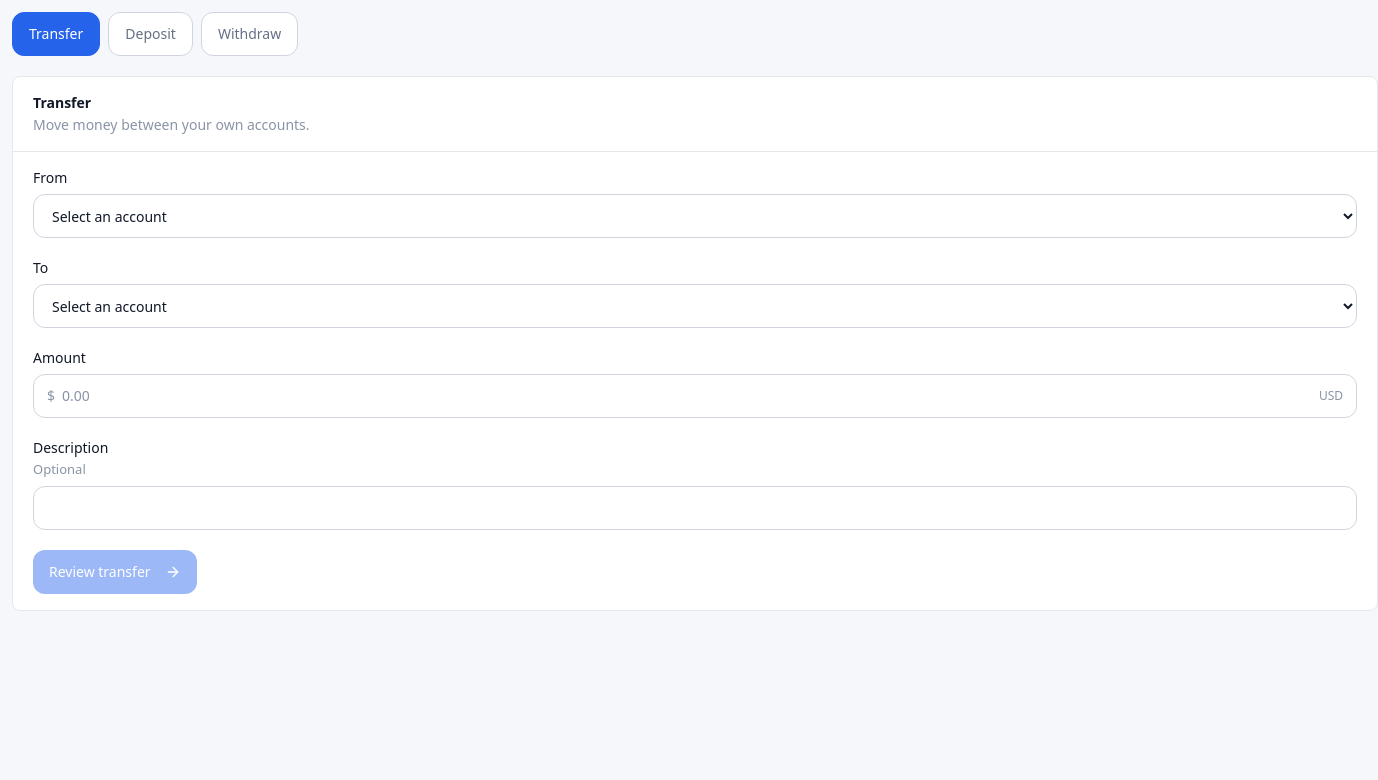
Test: the review step › shows the available balance before a withdrawal is confirmed
Click the tab "Withdraw" at (250, 34), box [201,12,298,56]
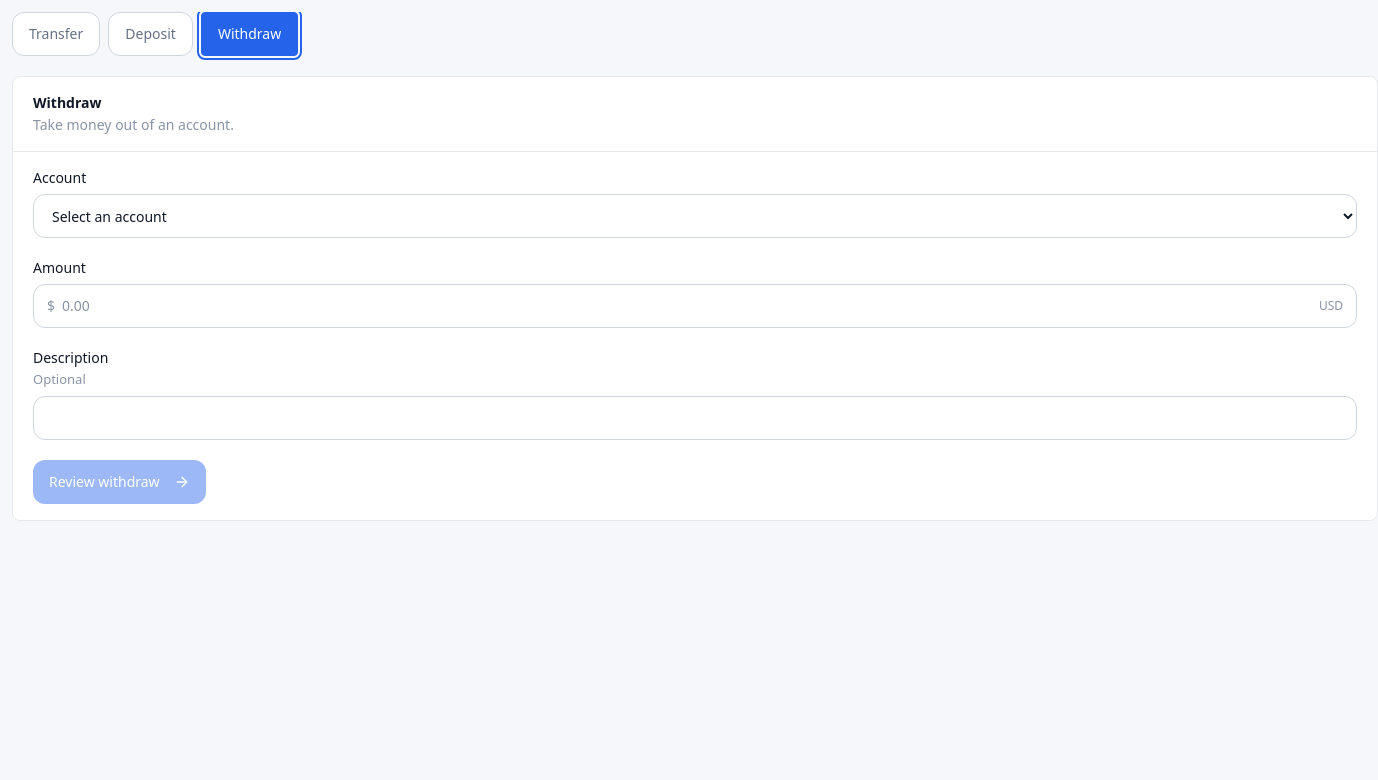
Select "Checking ••••2024 — $11,131.99" in the dropdown labelled "Account" at (695, 216), box [33,194,1357,238]
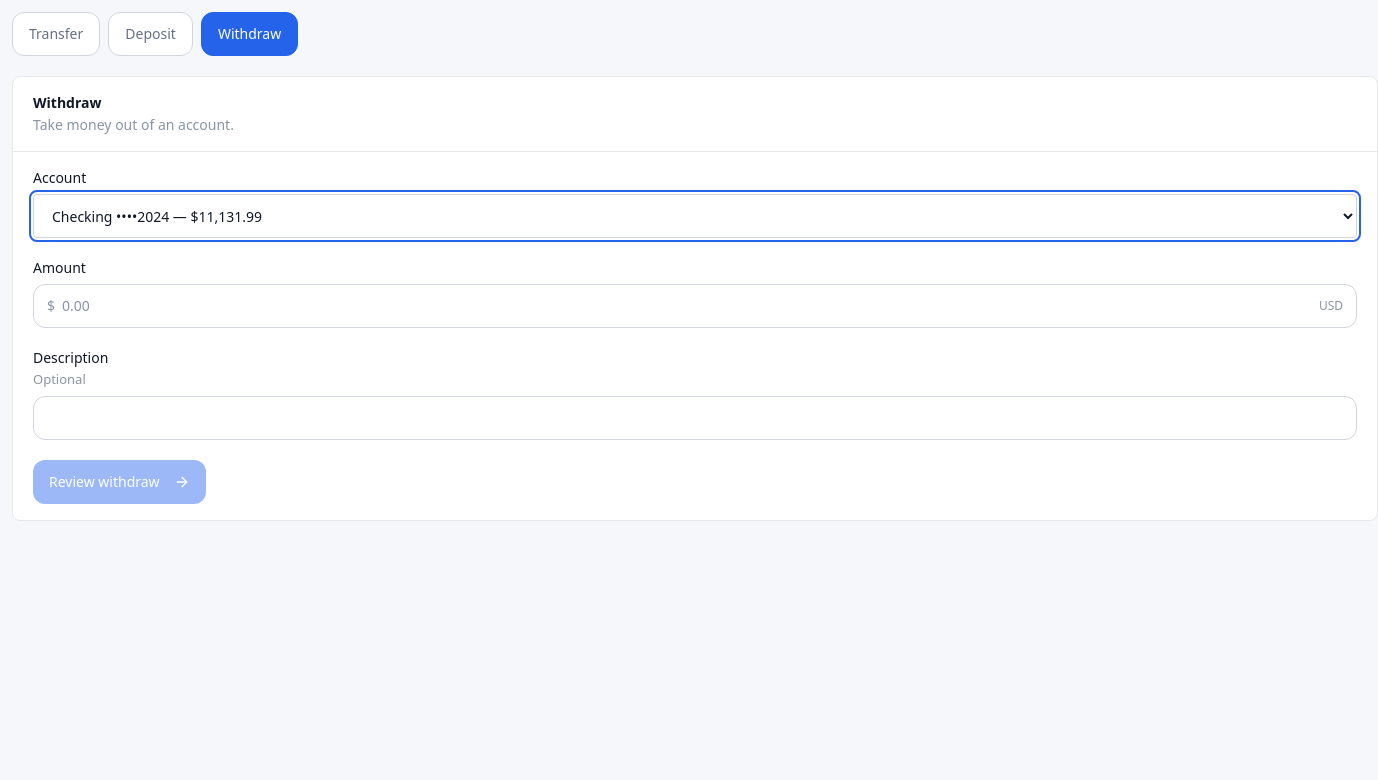
Type "40" into the field labelled "Amount" at (695, 306), box [33,284,1357,328]
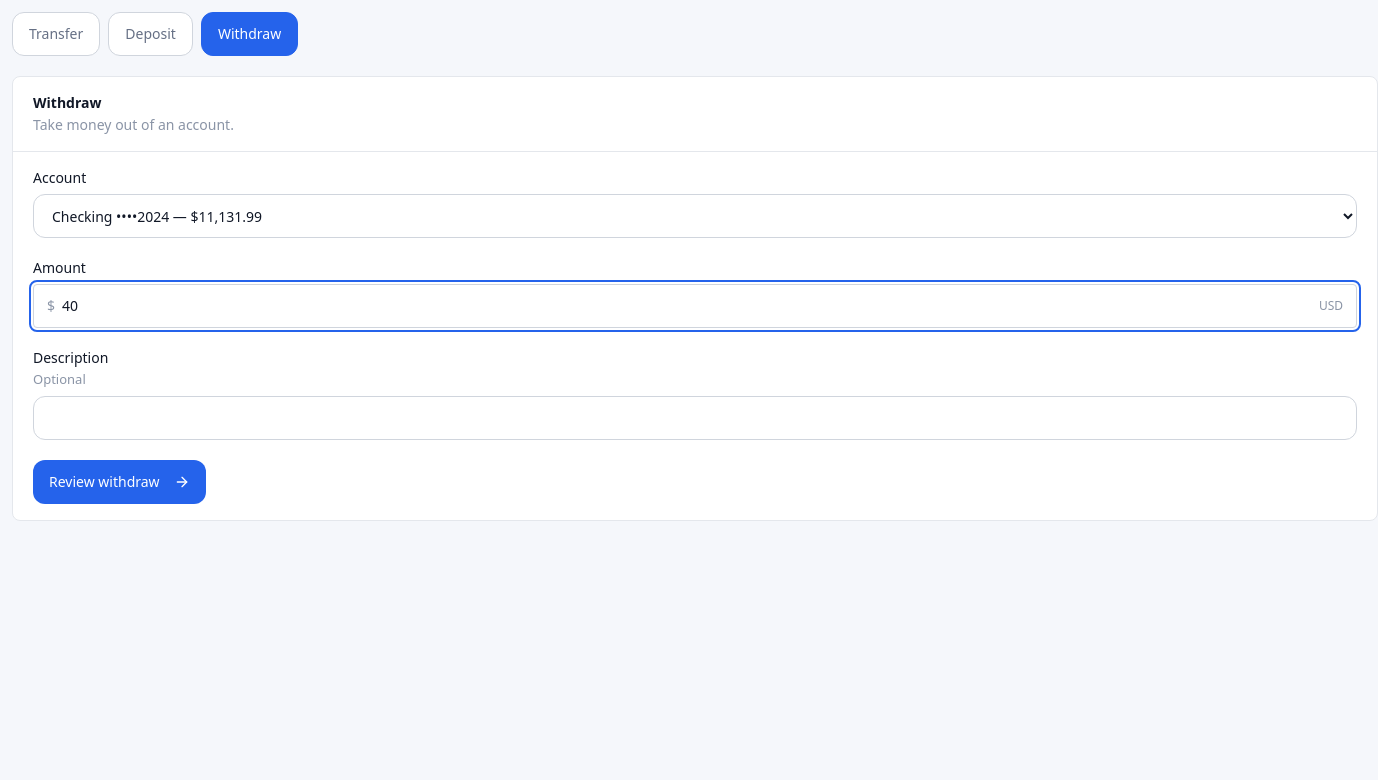
Click the button "Review withdraw" at (119, 482), box [33,460,206,504]
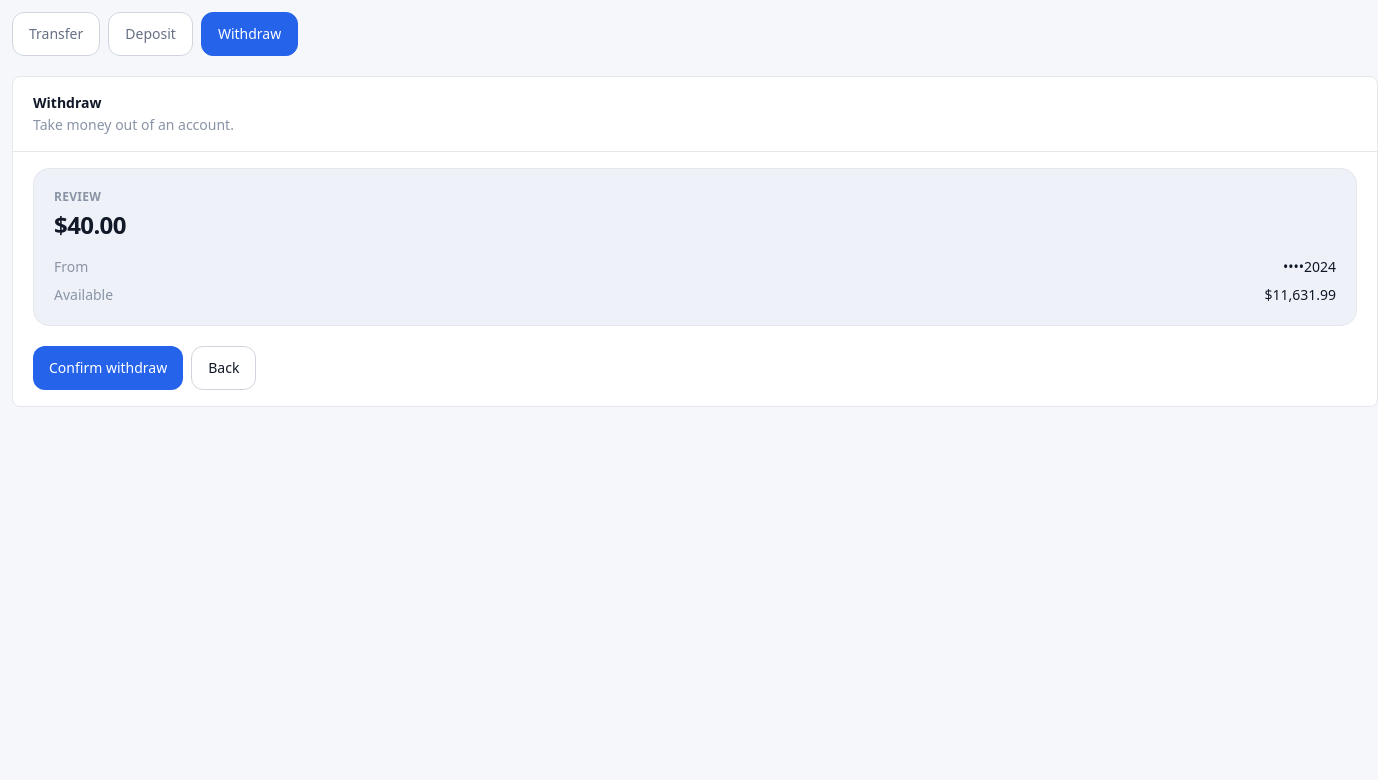
Result: the element with test id "review-panel" shows "$11,631.99" at [1264,285,1336,304]
